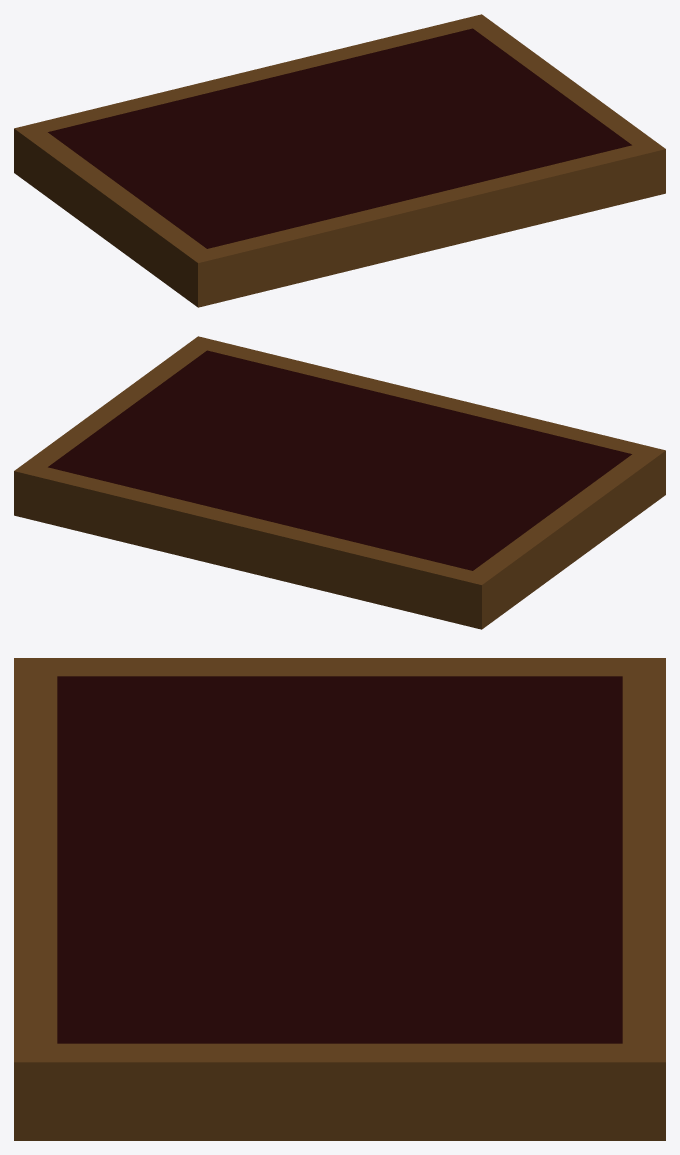
The model's file is RDImonds-3.obj.
3 views of the same model, one above another, from view 1: azimuth 30°, elevation 25°; view 2: azimuth 150°, elevation 25°; view 3: azimuth 270°, elevation 25° (orthographic). The views are drawn at different scales.
Size of the model in its own units: 2.2 by 0.2 by 1.5.
1 material, 1 textured.
